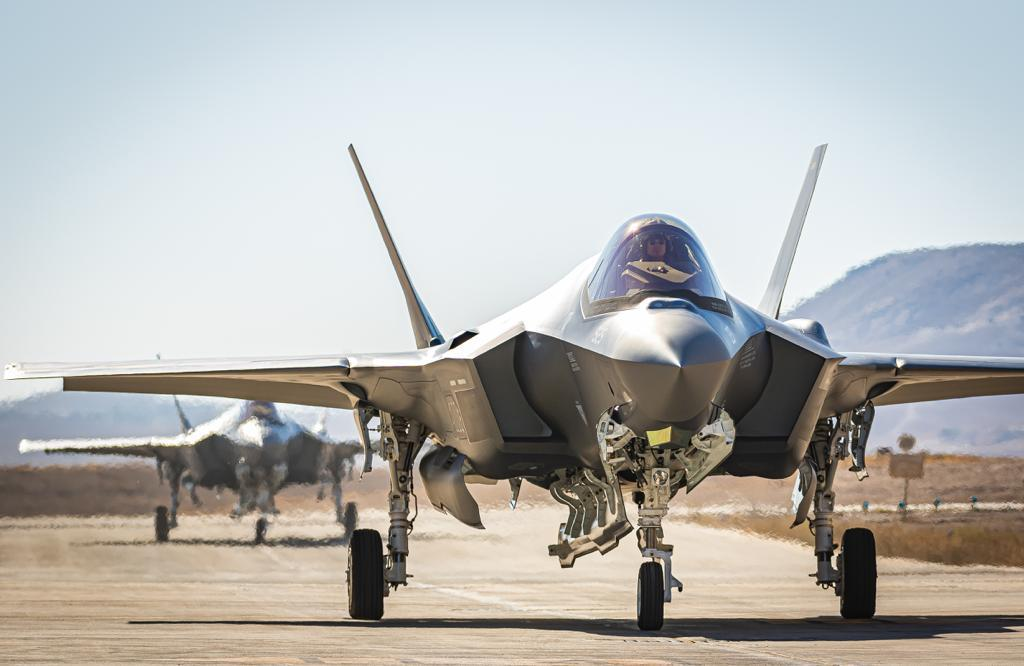F-35 Lightning: (52, 134, 1008, 650)
